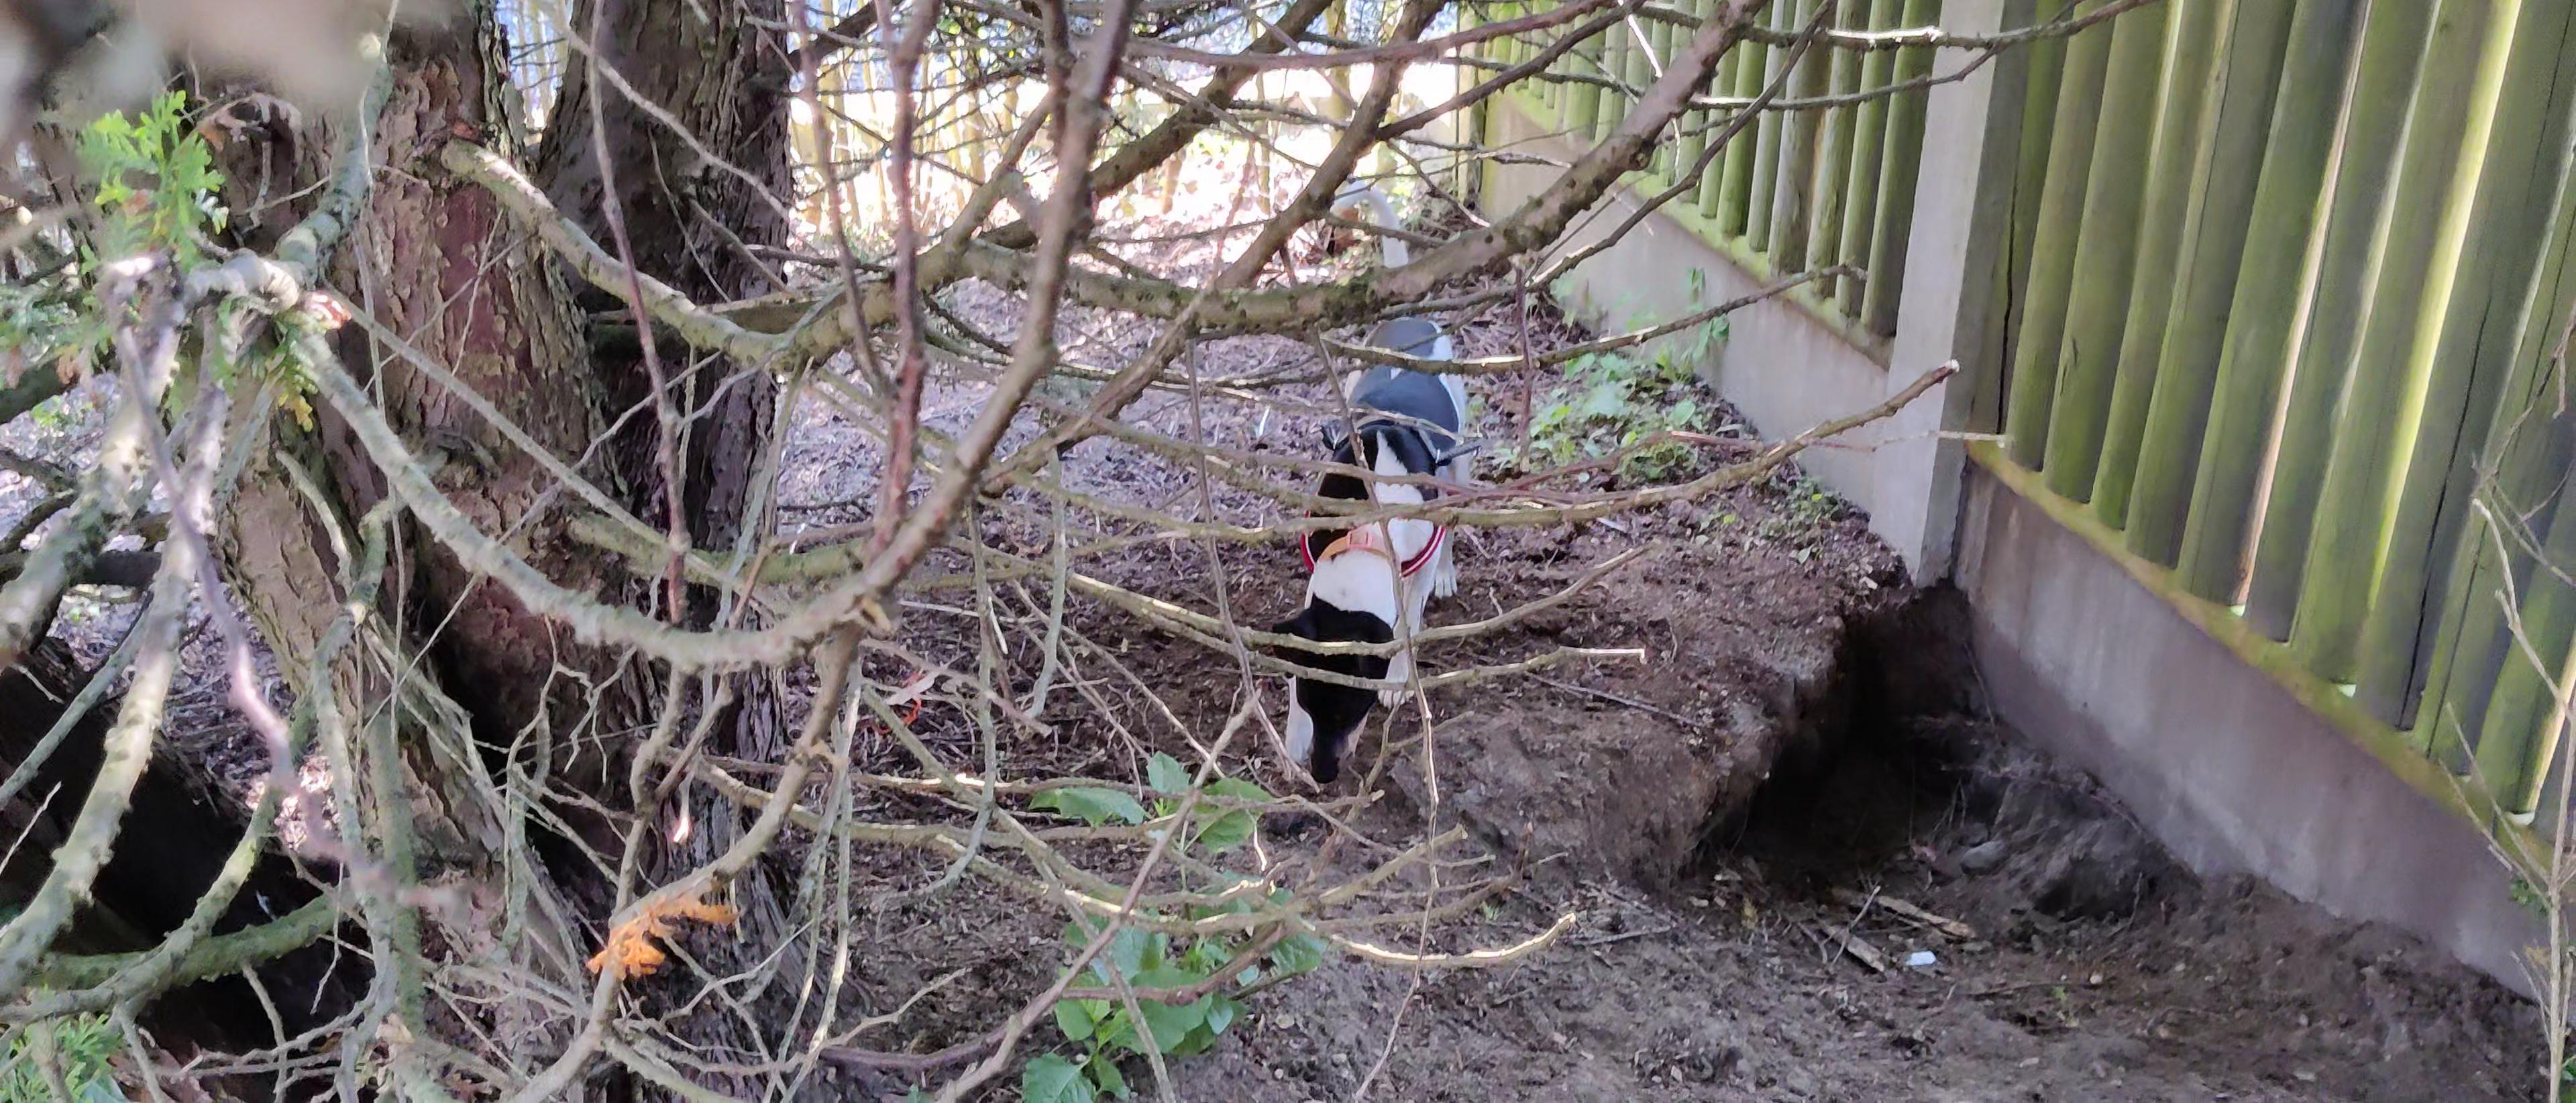Dog: (1262, 171, 1490, 799)
